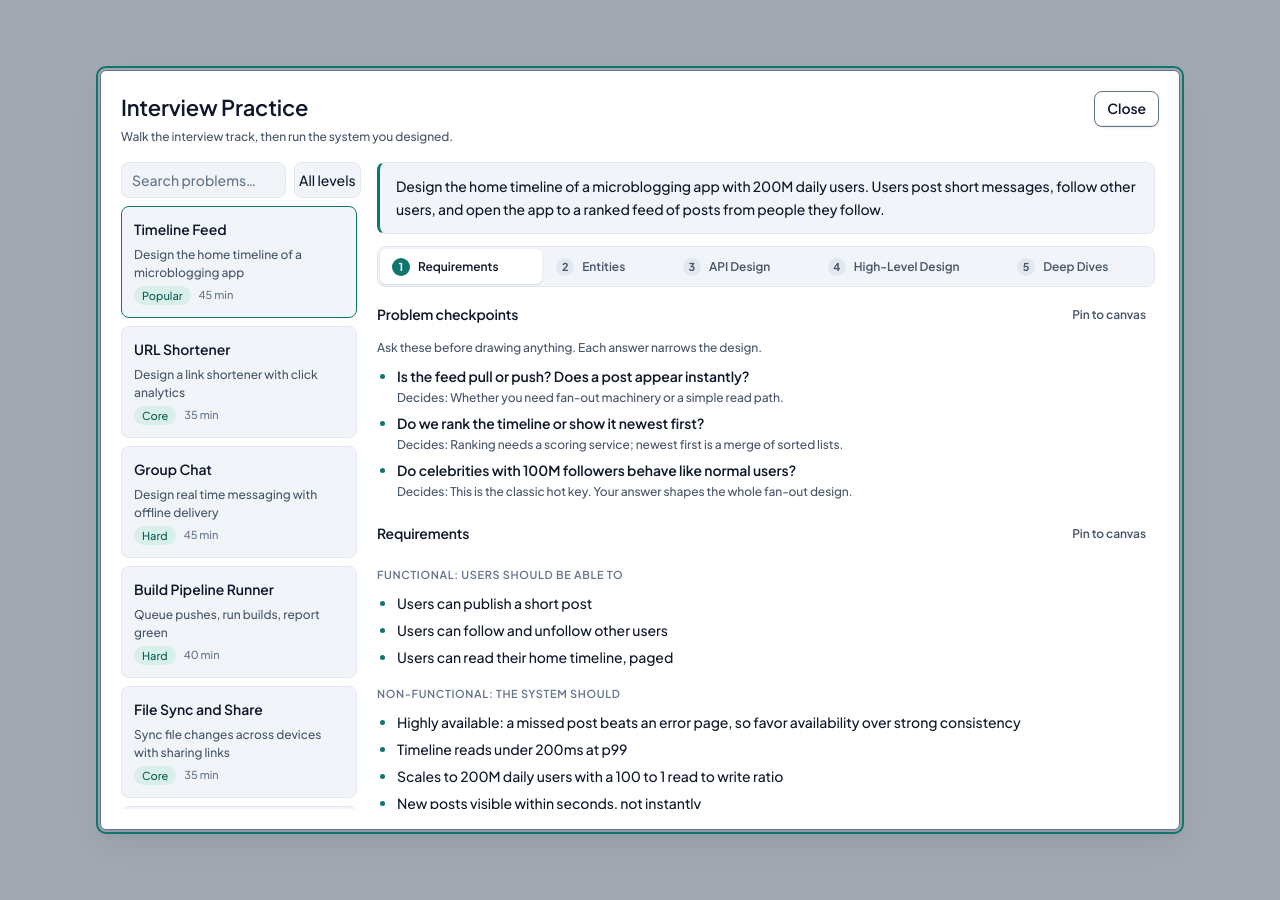
Test: InterviewPractice › switches packs and resets to requirements
Click the tab with class "iv-step" showing "5 Deep Dives" at (1078, 267), box [1005,249,1152,284]
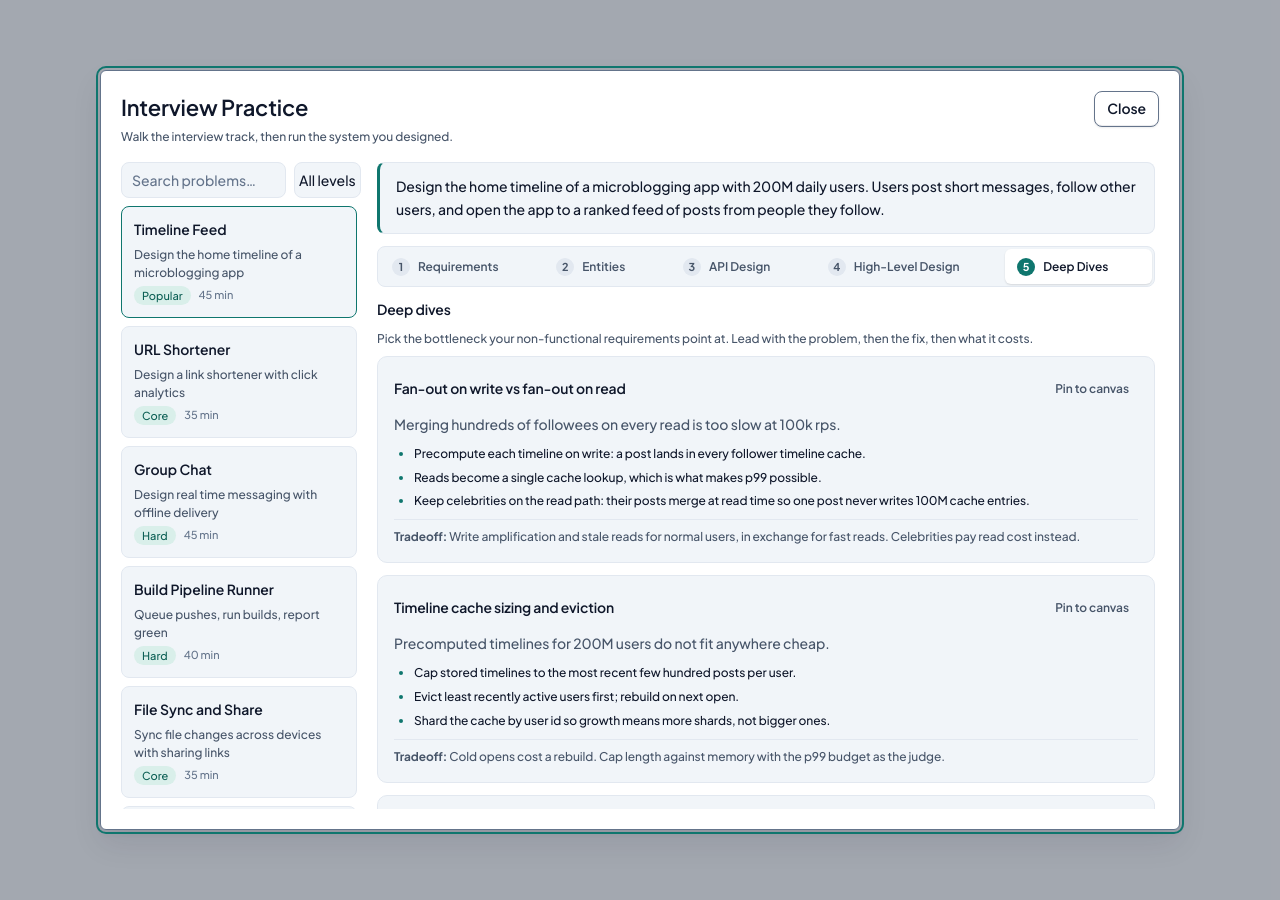
Click the button with class "iv-pack" that starts with "URL Shortener" at (239, 382), box [121,326,357,438]
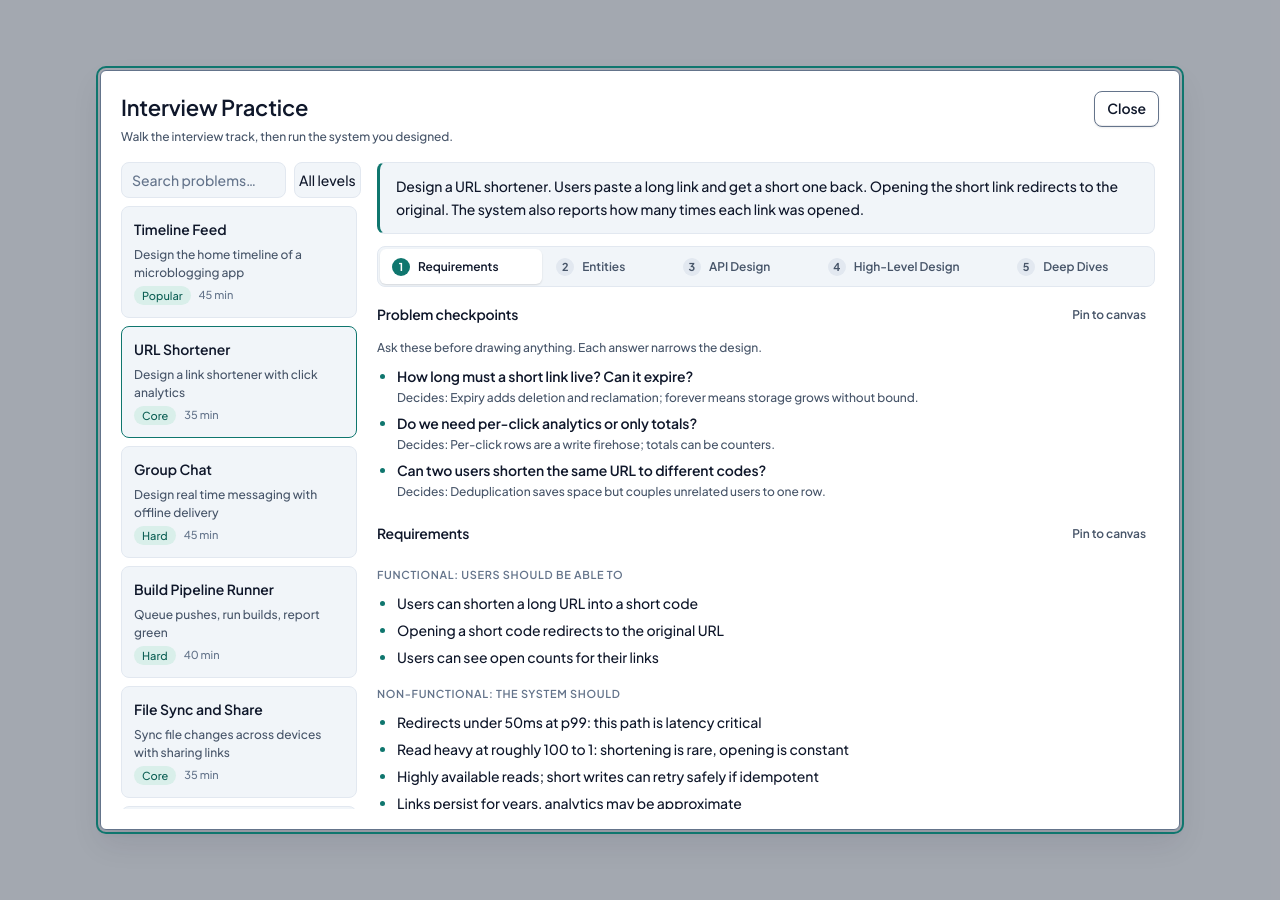
Check: the text "Problem checkpoints" is shown, box [377,304,518,327]
